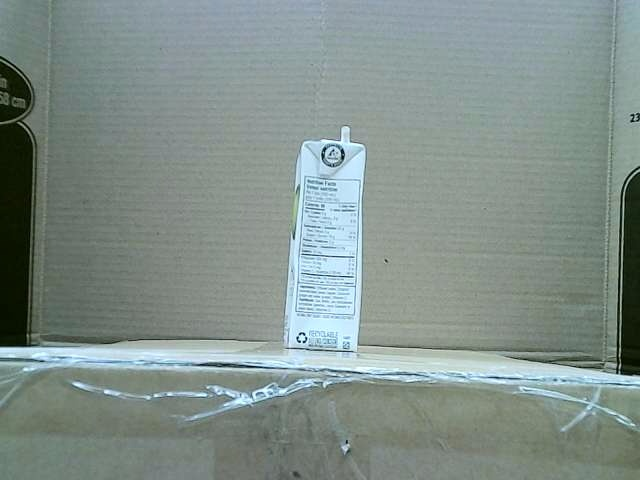JuiceBox: (284, 126, 366, 355)
